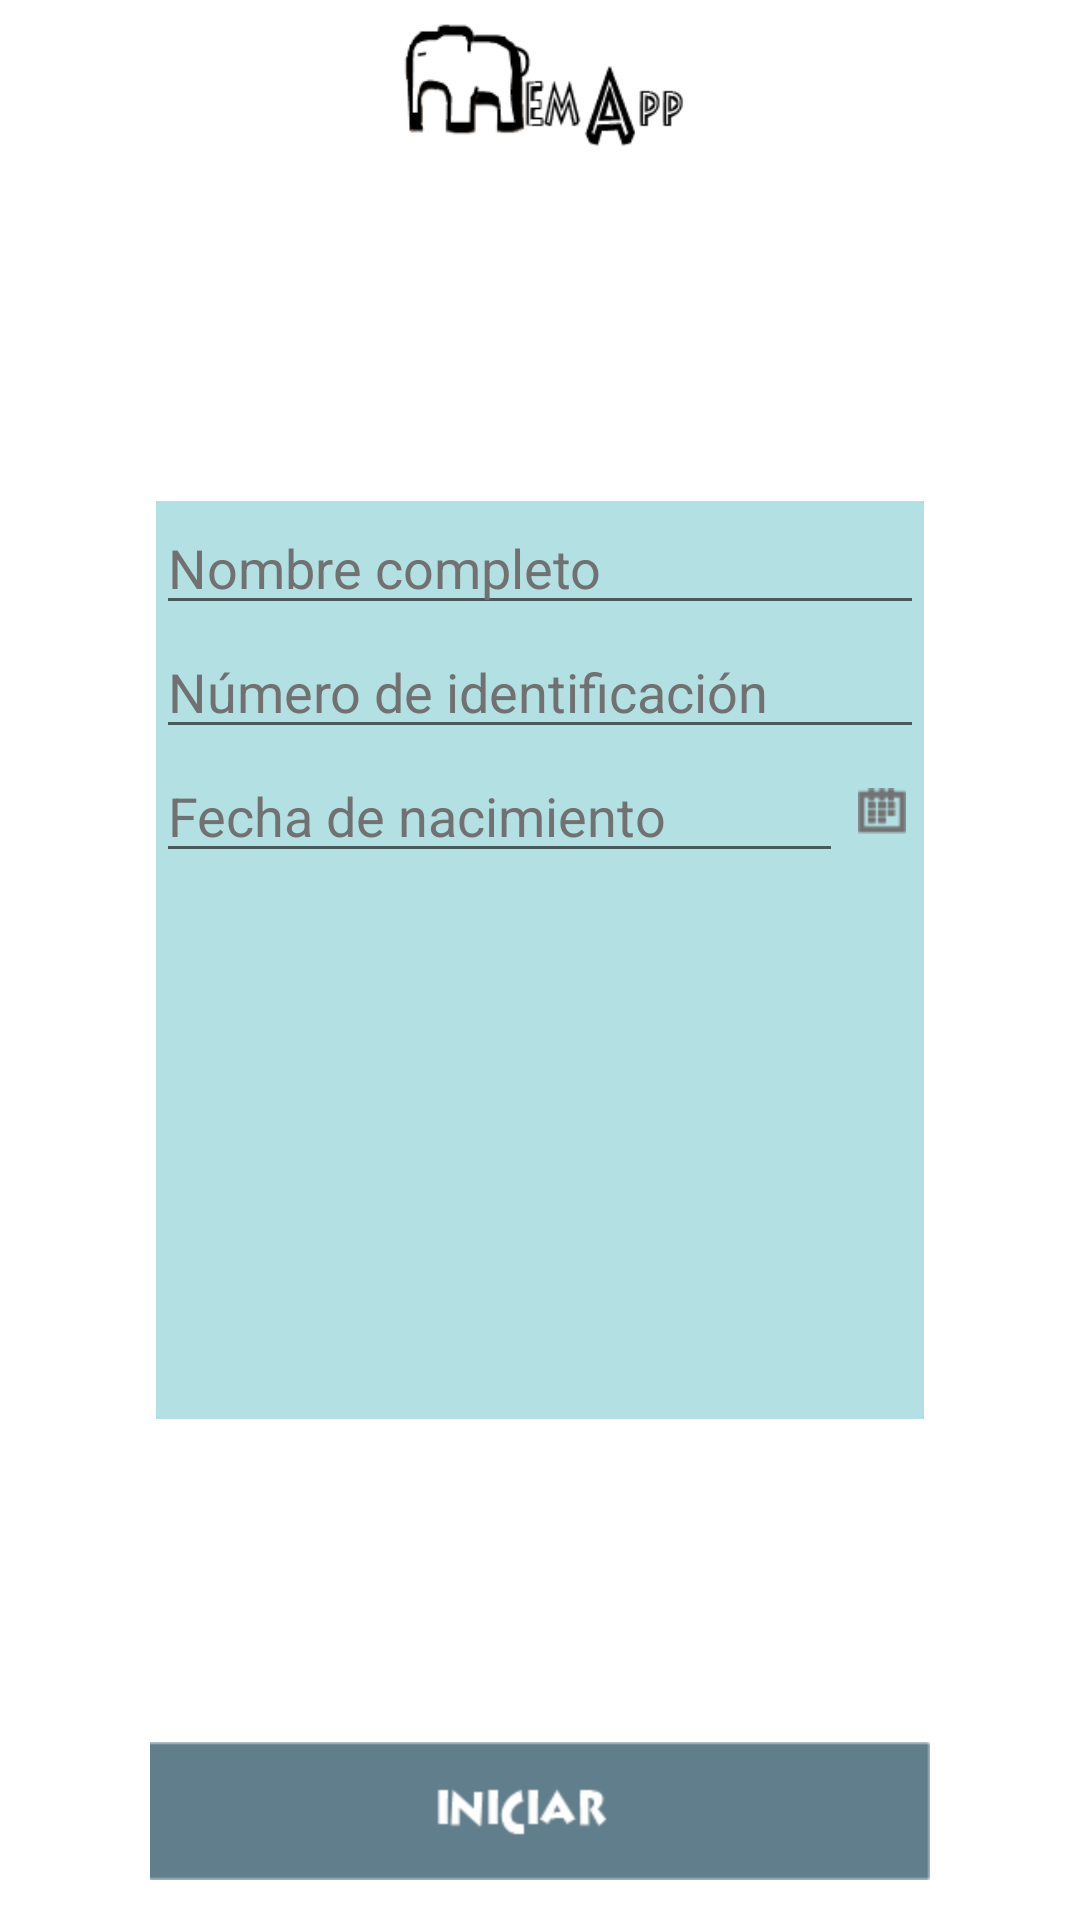

Icon click points for this 1080 × 1920 phone screenshot, format (x,y):
btncalendario: (882,811)
